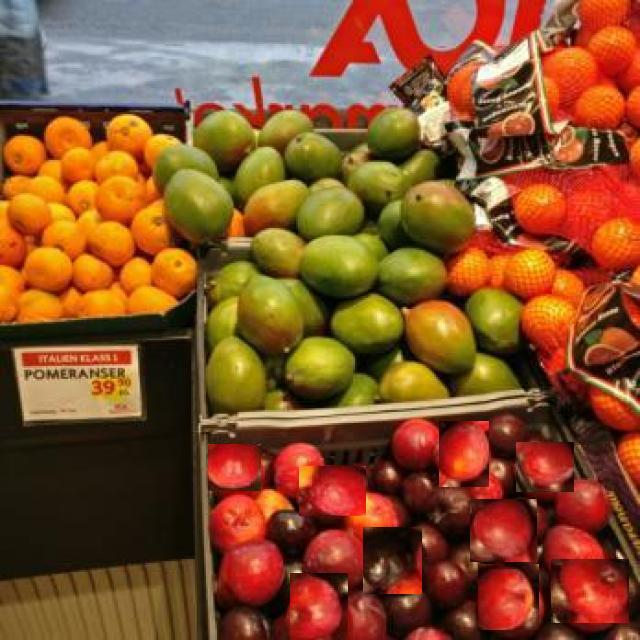Plum: (550, 559, 629, 623), (469, 498, 537, 562), (477, 564, 539, 630), (362, 526, 422, 594), (289, 573, 348, 640), (298, 465, 366, 516), (438, 422, 489, 487), (515, 441, 574, 492), (208, 443, 261, 491)
